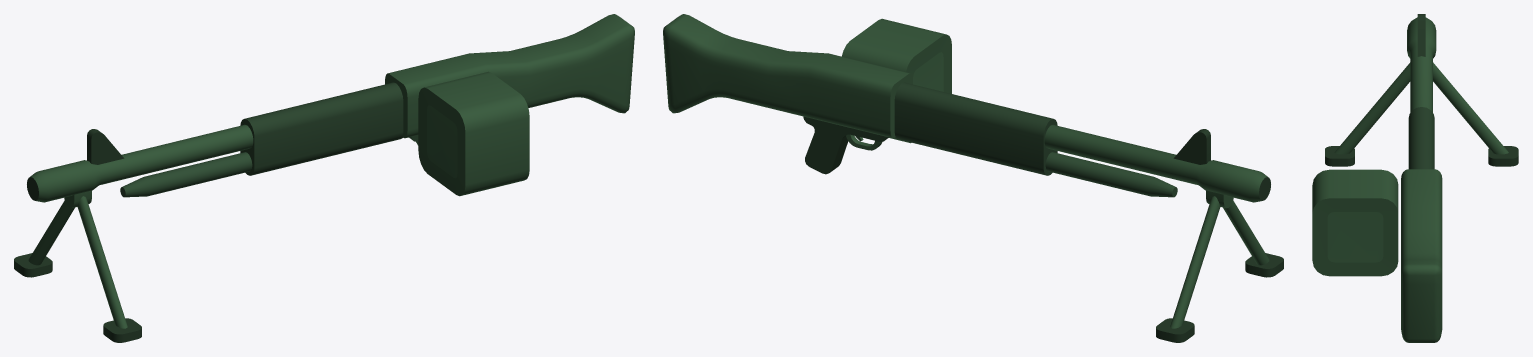
Rendered from Machinegun A.fbx.
The picture shows the model from 3 angles, left to right: view 1: azimuth 30°, elevation 25°; view 2: azimuth 150°, elevation 25°; view 3: azimuth 270°, elevation 25°; orthographic projection. The views are drawn at different scales.
Parts seen in each view (by area): view 1: Machinegun; view 2: Machinegun; view 3: Machinegun.
Part boxes in pixels (<box>): Machinegun: <box>14,14,634,342</box>; Machinegun: <box>663,14,1283,342</box>; Machinegun: <box>1312,14,1518,342</box>.
Size of the model in its own units: 3.07 by 0.8255 by 1.01.
